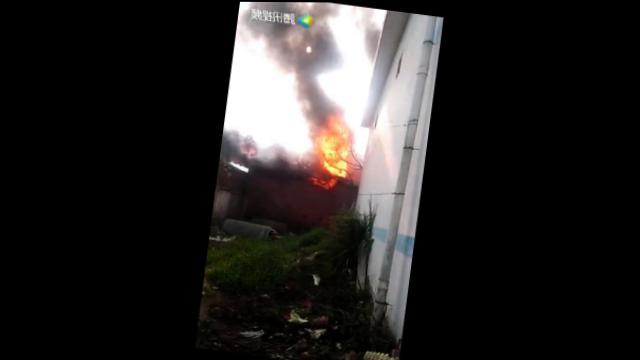fire: (317, 117, 356, 175)
